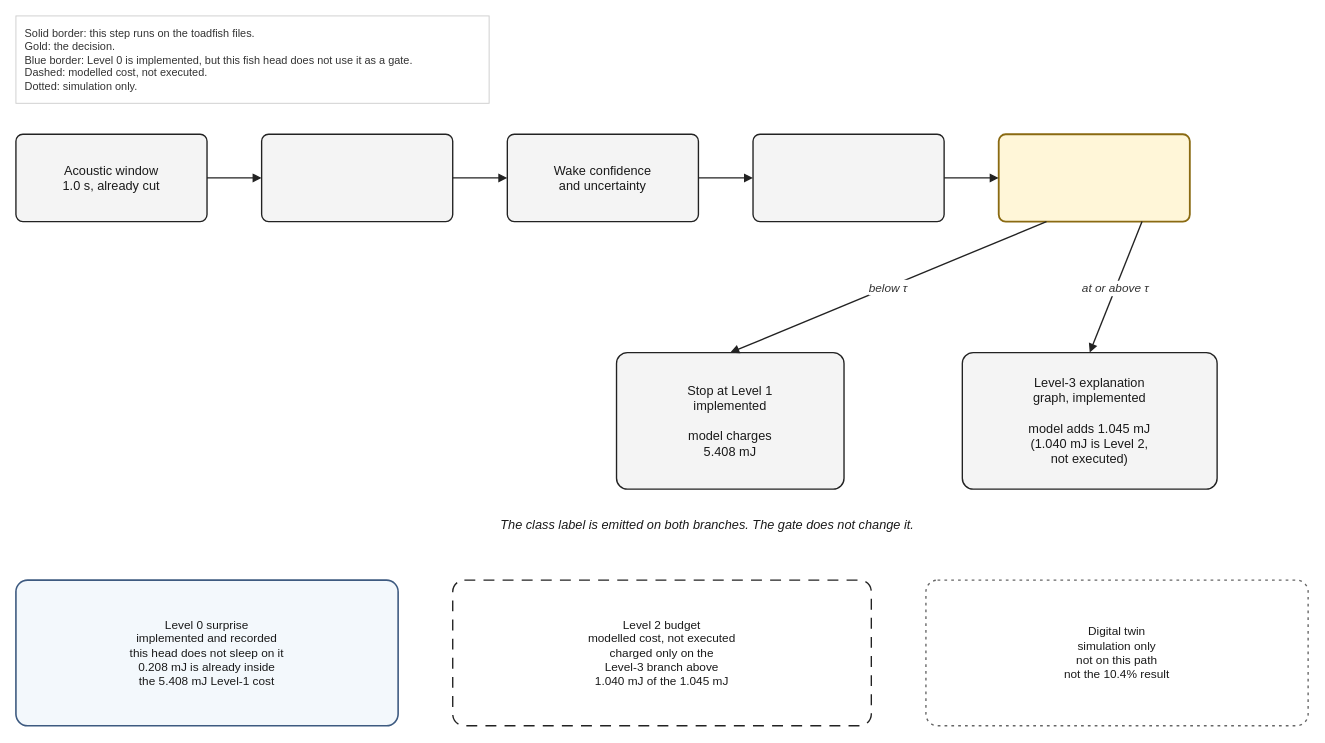
This 1325x743 diagram has some shape labels left out. Each missing label, with the box of its shape:
Features and logistic label: (261, 133, 453, 222)
Threshold T ≥ τ ?: (997, 133, 1190, 222)
Trust score T not a probability: (752, 133, 944, 222)
